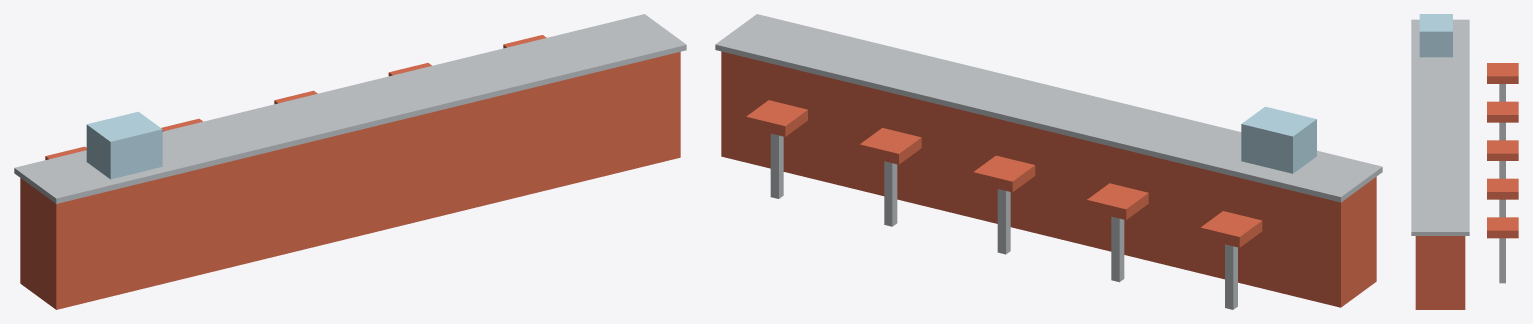
The model's file is counter.glb.
3 views of the same model, side by side, from view 1: azimuth 30°, elevation 25°; view 2: azimuth 150°, elevation 25°; view 3: azimuth 270°, elevation 25° (orthographic). The views are drawn at different scales.
Parts seen in each view (by area): view 1: Box1, Box2, Box3; view 2: Box1, Box2, Box3, Box8, Box10, Box14, Box6, Box12, Box9, Box11, Box5, Box7 (+1 smaller); view 3: Box2, Box1, Box3, Box6, Box8, Box12, Box10, Box14, Box5, Box7, Box11, Box9 (+1 smaller).
Boxes of the visible parts, box(x1,y1,x2,y2) form: Box1: box(20, 52, 680, 309); Box2: box(14, 14, 686, 203); Box3: box(86, 111, 162, 179); Box1: box(721, 51, 1376, 307); Box2: box(715, 14, 1382, 202); Box3: box(1241, 106, 1316, 173); Box8: box(859, 128, 921, 164); Box10: box(973, 155, 1035, 192); Box14: box(1200, 211, 1262, 247); Box6: box(746, 100, 807, 136); Box12: box(1087, 183, 1148, 219); Box9: box(997, 189, 1010, 254); Box11: box(1111, 216, 1124, 282); Box5: box(770, 133, 783, 198); Box7: box(884, 161, 897, 226); Box2: box(1411, 19, 1469, 235); Box1: box(1415, 236, 1465, 309); Box3: box(1419, 14, 1452, 57); Box6: box(1487, 217, 1518, 238); Box8: box(1487, 178, 1518, 199); Box12: box(1487, 101, 1518, 122); Box10: box(1487, 140, 1518, 160); Box14: box(1487, 63, 1518, 83); Box5: box(1499, 238, 1505, 283); Box7: box(1499, 199, 1505, 217); Box11: box(1499, 122, 1505, 140); Box9: box(1499, 161, 1505, 178).
Size of the model in its own units: 6.06 by 1.4 by 1.29.
